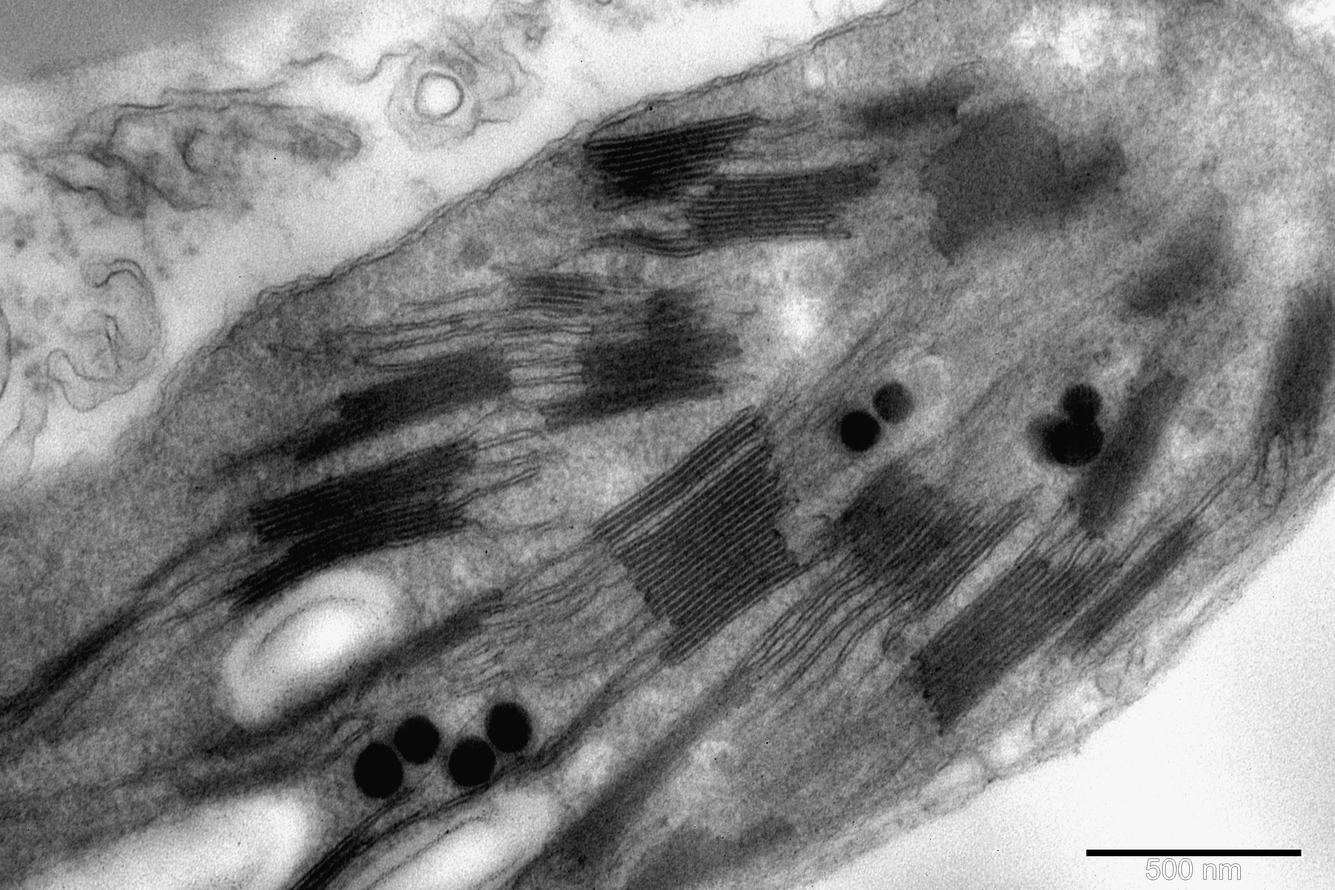granum: (608, 438, 805, 672), (549, 674, 752, 873), (905, 545, 1122, 731), (818, 455, 1034, 628), (921, 98, 1125, 257), (281, 339, 513, 469), (248, 425, 478, 546), (236, 492, 469, 610), (543, 287, 733, 431), (586, 405, 771, 551), (643, 160, 875, 261), (1062, 360, 1190, 537), (1061, 514, 1207, 660), (0, 606, 144, 737), (1111, 211, 1247, 331), (586, 110, 752, 202), (621, 815, 796, 890), (351, 602, 483, 693), (1265, 290, 1334, 435), (865, 71, 970, 138), (176, 752, 292, 812), (288, 823, 377, 890), (514, 271, 606, 320)
